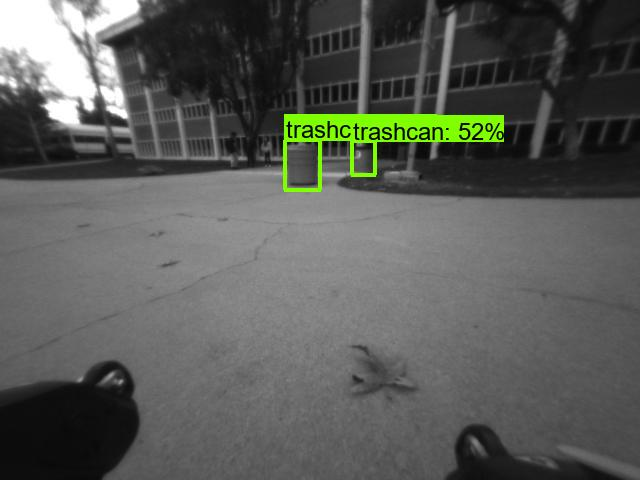trashcan: (277, 137, 326, 191), (353, 141, 376, 179)
